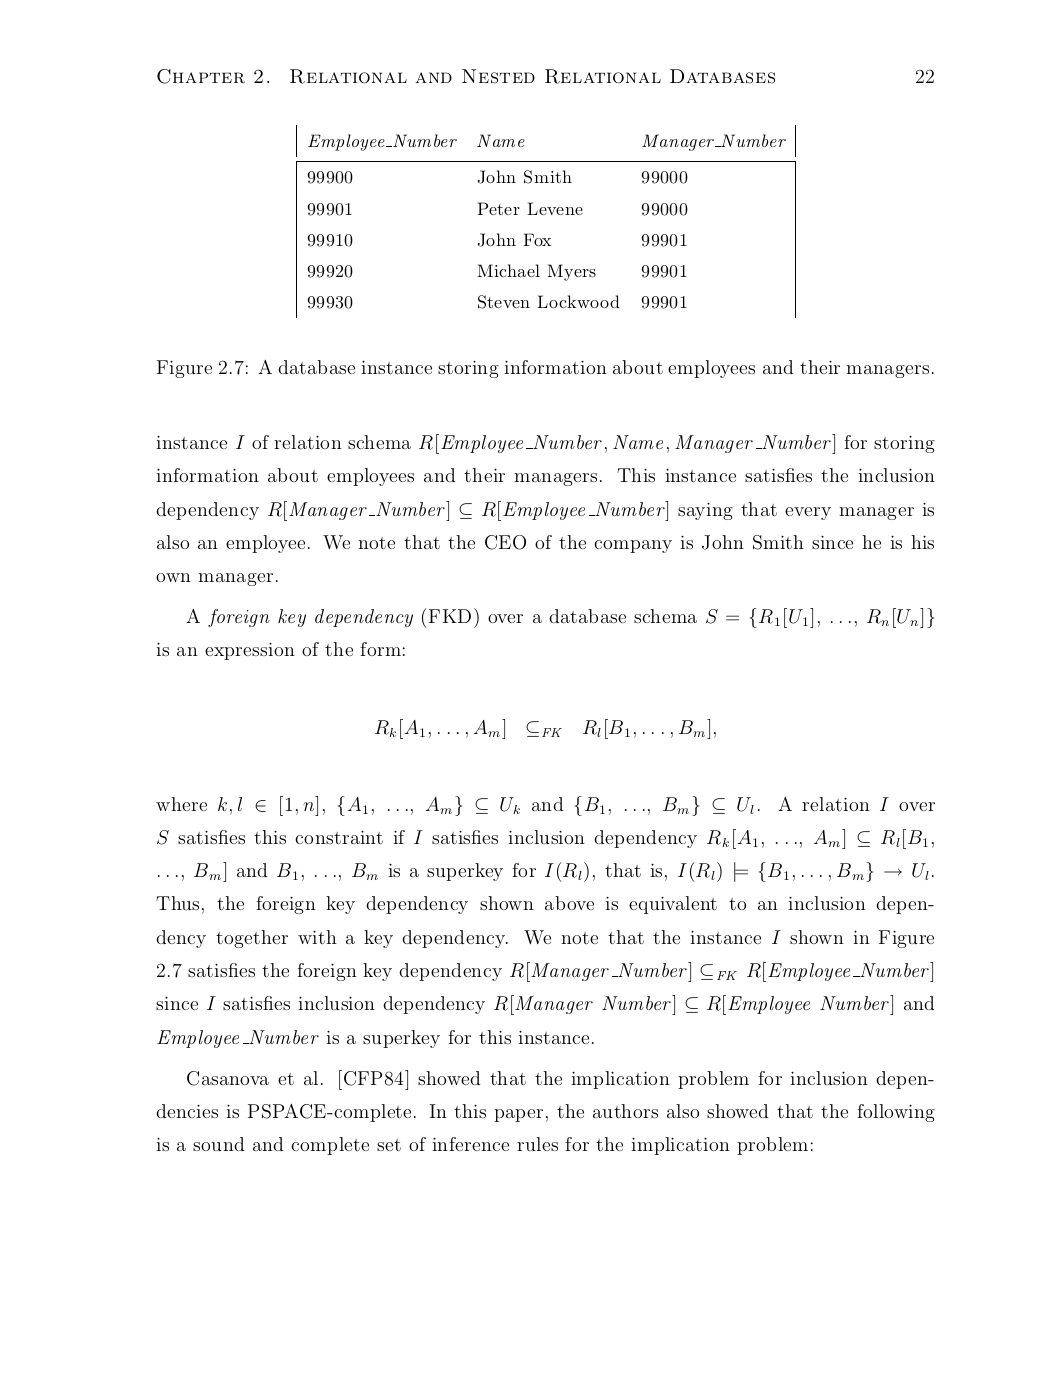Table: (296, 125, 795, 317)
formula: (374, 718, 716, 739)
